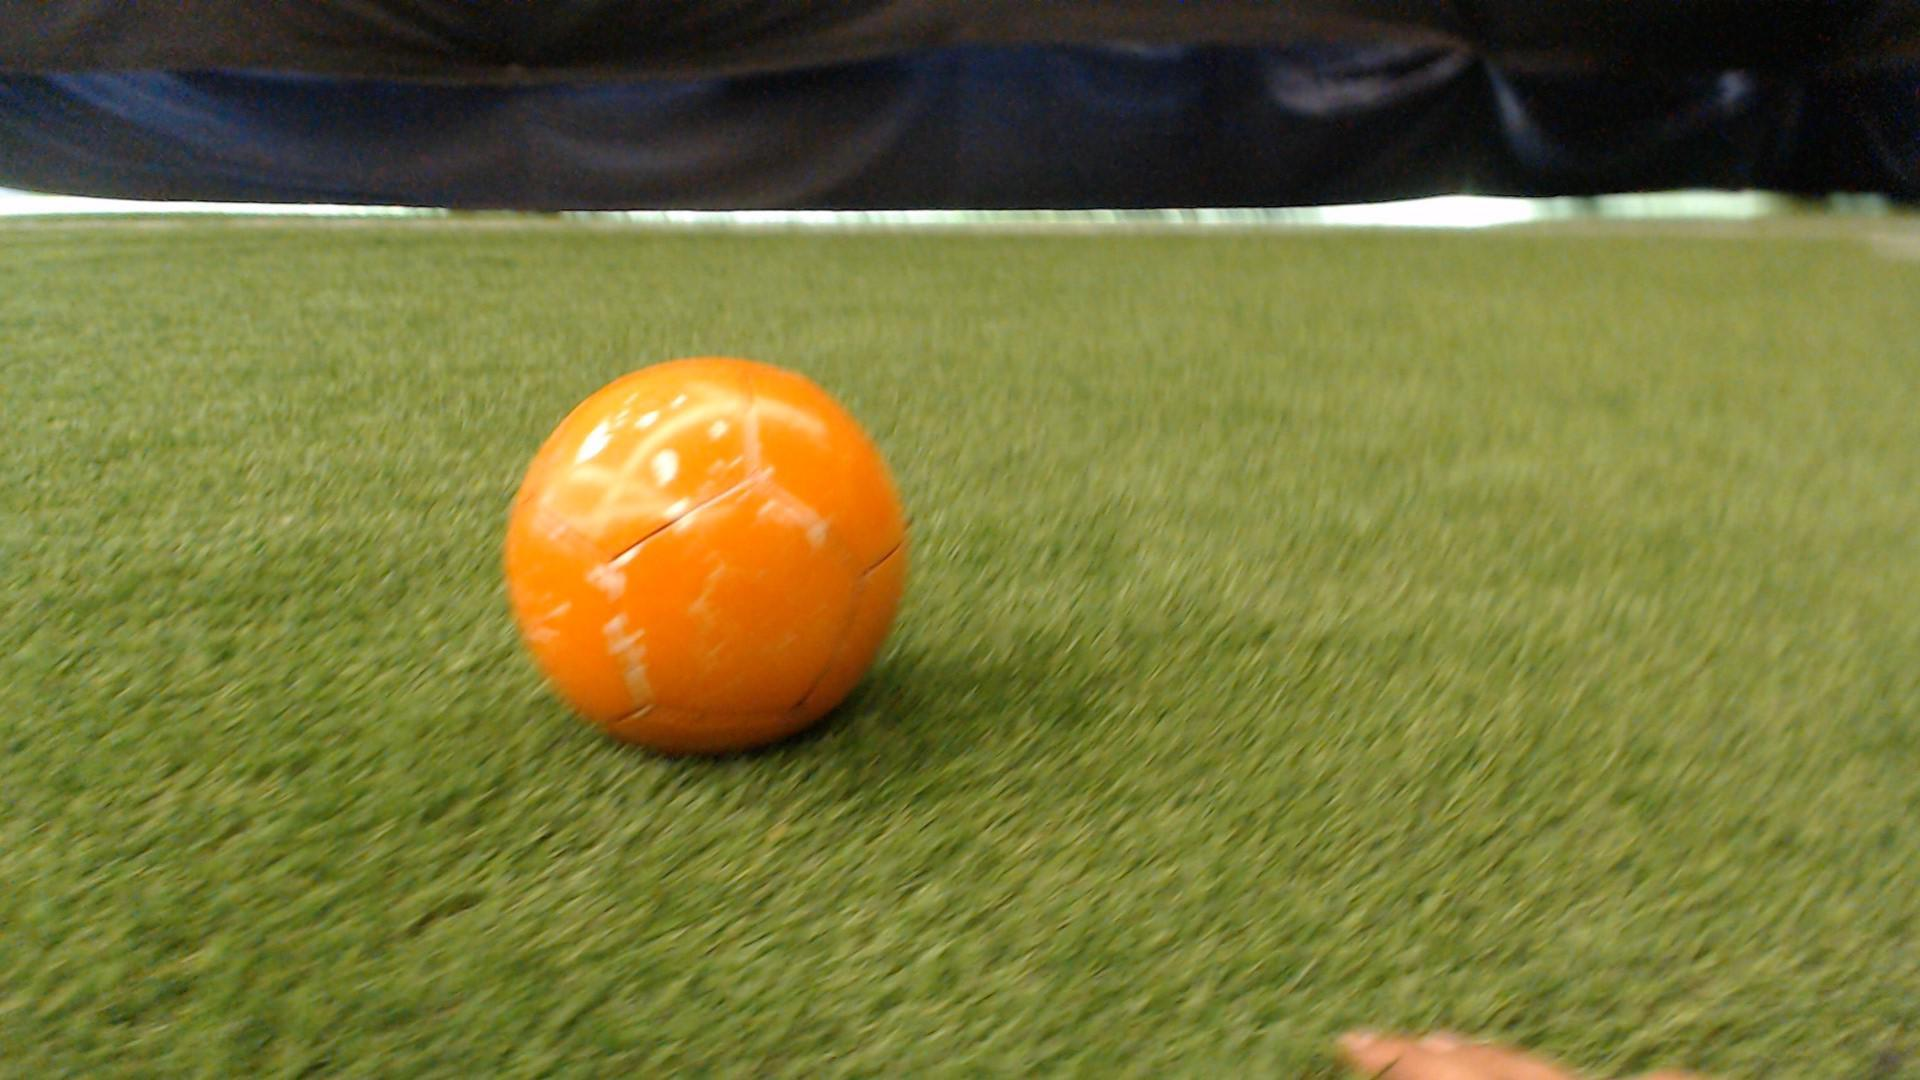bola: (475, 336, 972, 784)
